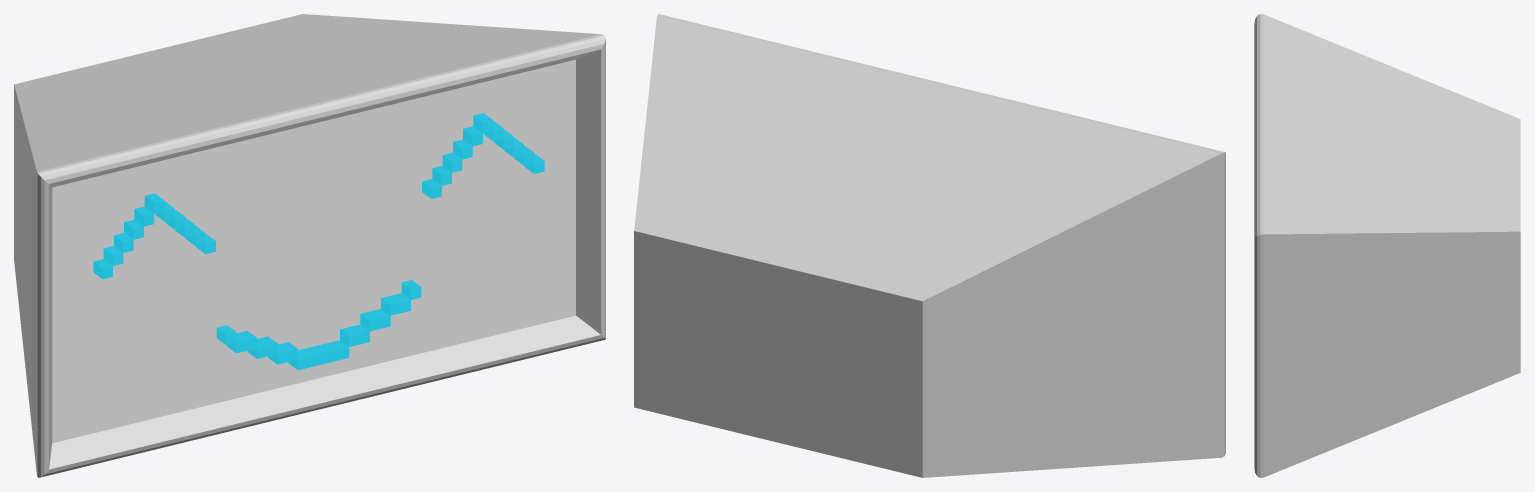
Rendered from smiley.glb.
3 views of the same model, side by side, from view 1: azimuth 30°, elevation 25°; view 2: azimuth 150°, elevation 25°; view 3: azimuth 270°, elevation 25° (orthographic). The views are drawn at different scales.
Visible parts, largest first — view 1: Screen, Cube, Eyes, Mouth; view 2: Cube; view 3: Cube.
Boxes of the visible parts, left/top/right/bottom form: Screen: left=52, top=59, right=575, bottom=443; Cube: left=14, top=14, right=605, bottom=477; Eyes: left=93, top=113, right=544, bottom=279; Mouth: left=216, top=280, right=421, bottom=370; Cube: left=634, top=14, right=1225, bottom=477; Cube: left=1254, top=14, right=1520, bottom=477.
Size of the model in its own units: 3.93 by 2.01 by 2.
